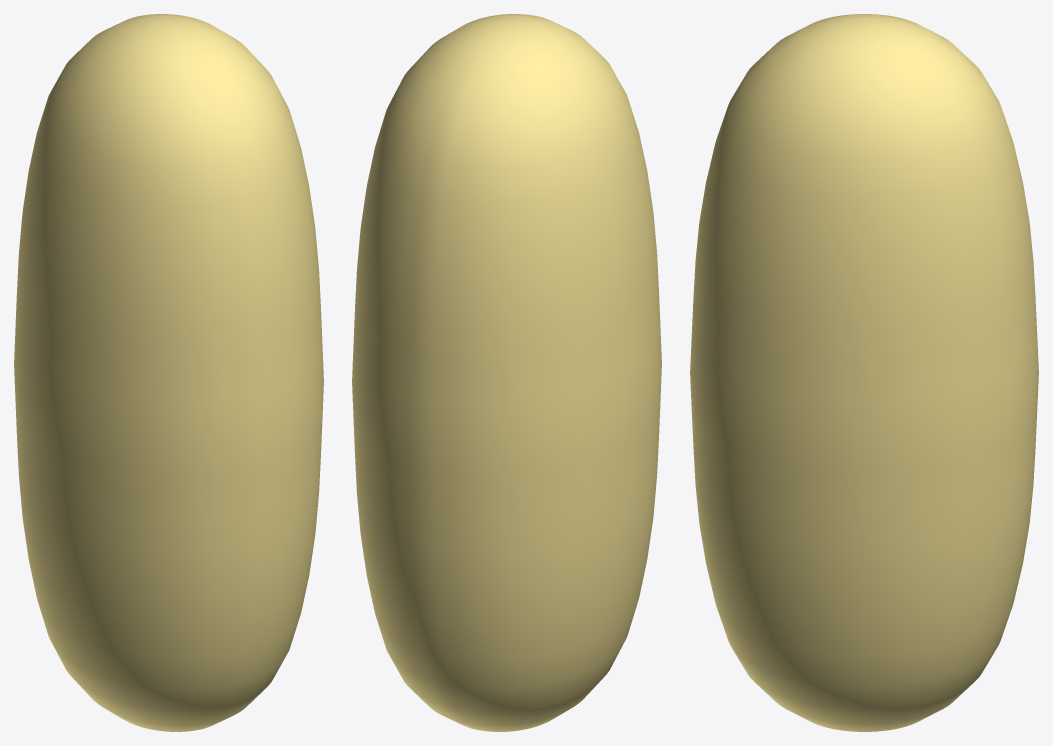
Rendered from PILL1.fbx.
3 views of the same model, side by side, from view 1: azimuth 30°, elevation 25°; view 2: azimuth 150°, elevation 25°; view 3: azimuth 270°, elevation 25° (orthographic).
Visible parts, largest first — view 1: pill 1; view 2: pill 1; view 3: pill 1.
Part boxes in pixels (box(x1,y1,x2,y2)): pill 1: box(14, 14, 323, 731); pill 1: box(352, 14, 661, 731); pill 1: box(690, 14, 1038, 731).
Size of the model in its own units: 104 by 268 by 121.
